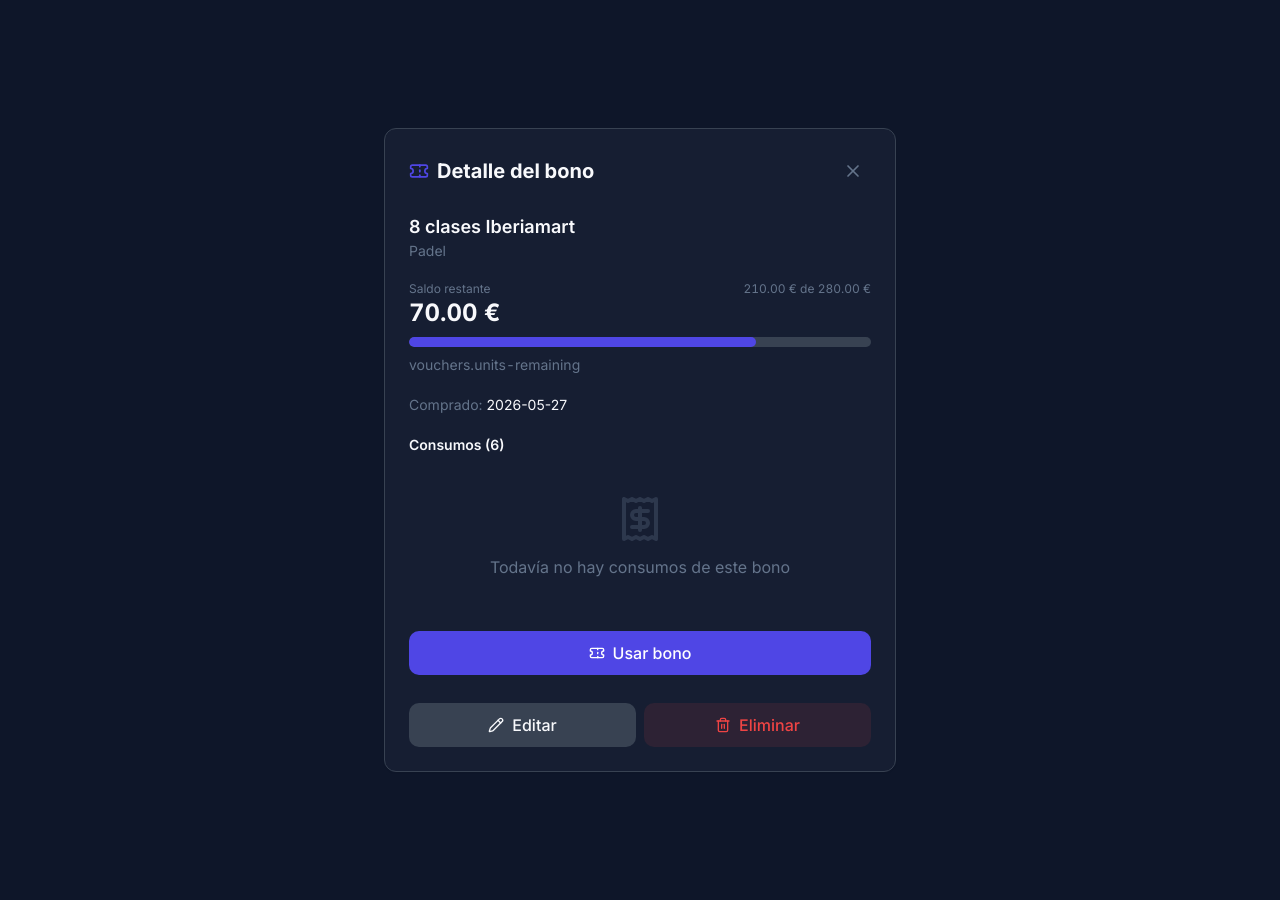
Scenario: VoucherDetailModal — quick-consume flow › prorates the amount preview from the unit price and updates on change
Click the button "Usar bono": [640, 653] box [409,631,871,675]
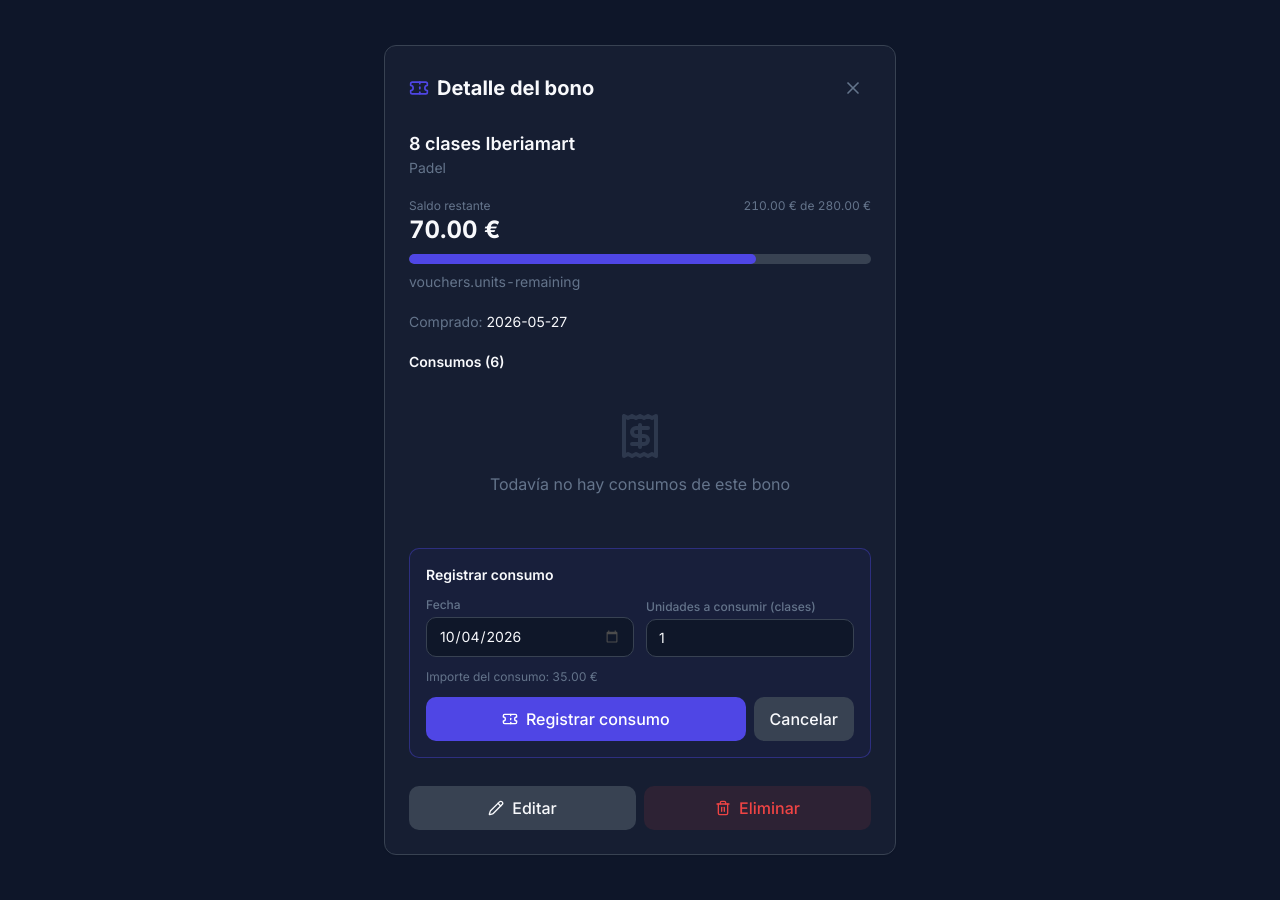
Expected: the text "Importe del consumo: 35.00 €" is shown, [426,669,598,684]
Replace the text in the number field labelled "Unidades a consumir (clases)" with "2": [750, 638] box [646,619,854,657]
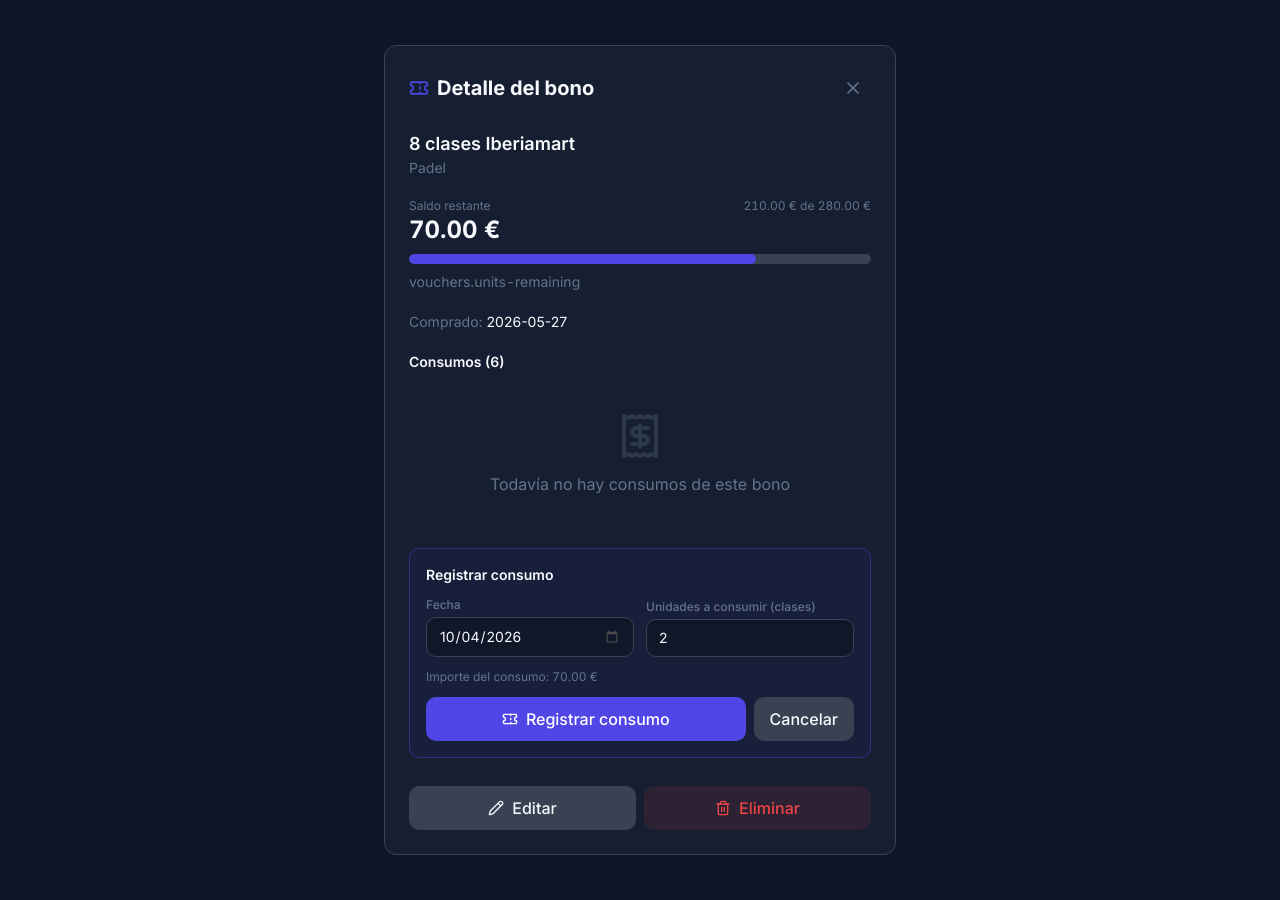
Expected: the text "Importe del consumo: 70.00 €" is shown, [426,669,598,684]
